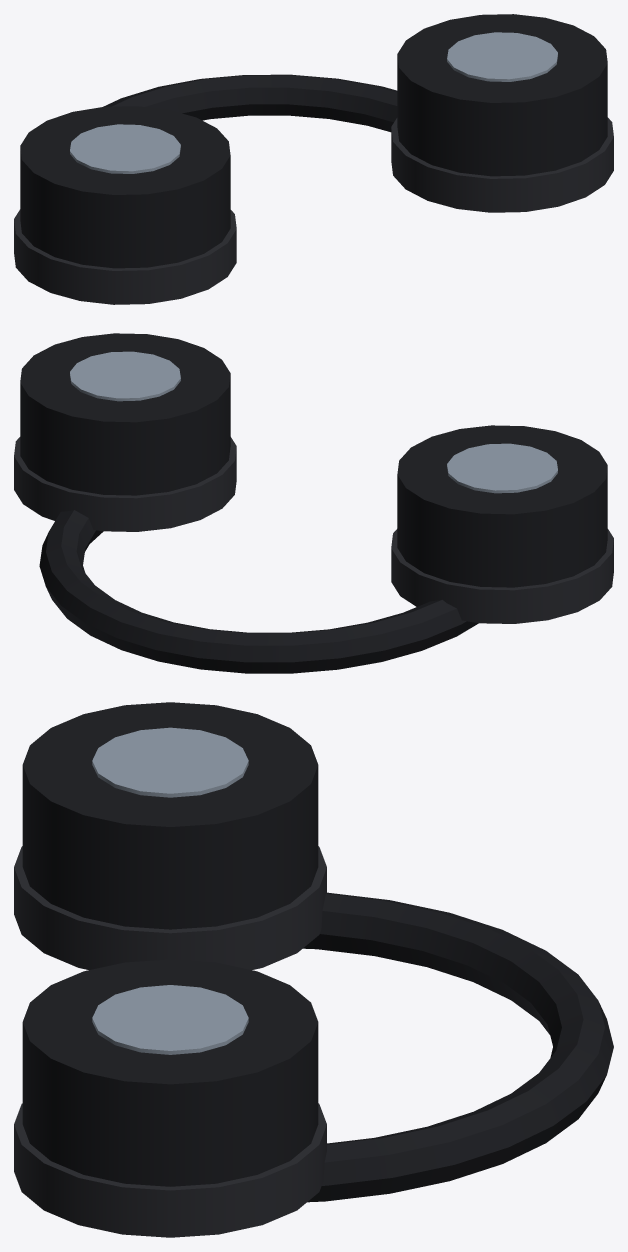
Rendered from headphones.glb.
3 renders of one model, top to bottom at view 1: azimuth 30°, elevation 25°; view 2: azimuth 150°, elevation 25°; view 3: azimuth 270°, elevation 25°, orthographic. The views are drawn at different scales.
Visible parts, largest first — view 1: headphones; view 2: headphones; view 3: headphones.
Boxes of the visible parts, x1=… form: headphones: x1=14, y1=14, x2=613, y2=304; headphones: x1=14, y1=333, x2=613, y2=673; headphones: x1=14, y1=702, x2=613, y2=1237.
Size of the model in its own units: 0.18 by 0.0399 by 0.1172.
